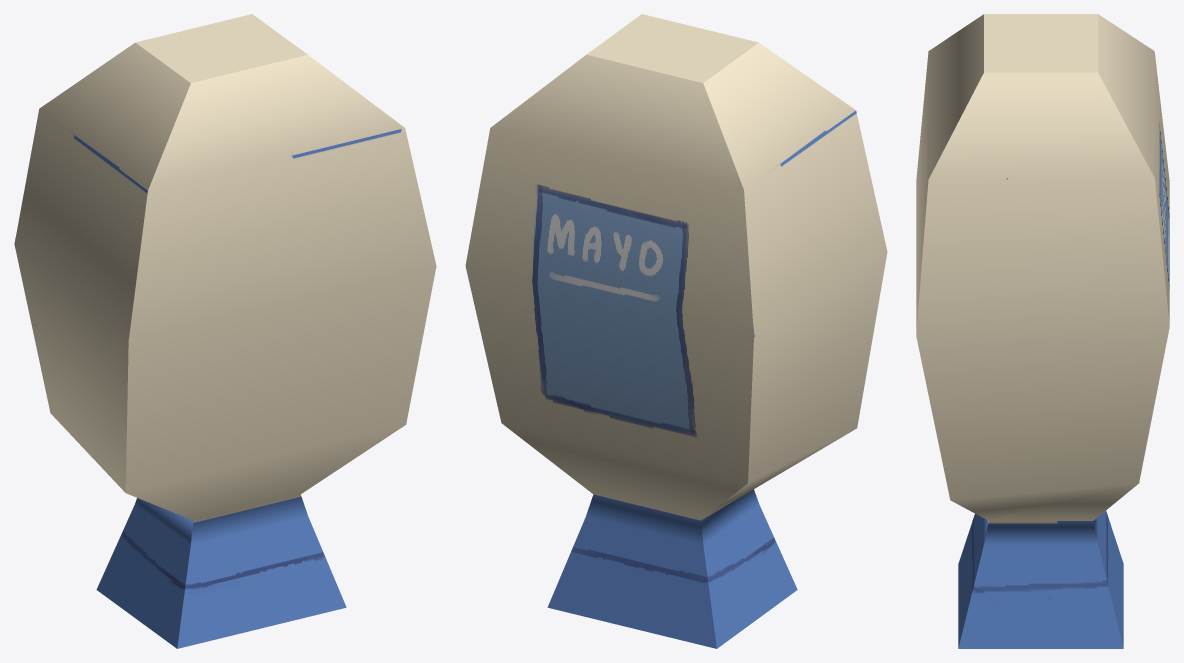
Rendered from mayo.fbx.
The picture shows the model from 3 angles, left to right: view 1: azimuth 30°, elevation 25°; view 2: azimuth 150°, elevation 25°; view 3: azimuth 270°, elevation 25°; orthographic projection. The views are drawn at different scales.
Visible parts, largest first — view 1: mayo; view 2: mayo; view 3: mayo.
Part boxes in pixels (x1=…): mayo: x1=14, y1=14, x2=436, y2=648; mayo: x1=465, y1=14, x2=887, y2=648; mayo: x1=916, y1=14, x2=1169, y2=648.
Size of the model in its own units: 22.52 by 38.46 by 15.69.
Materials: 1 (1 with a texture image).
